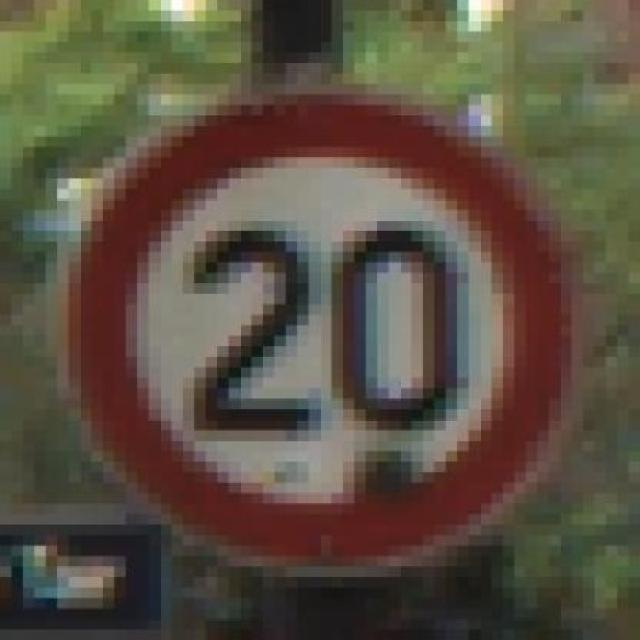forb_speed_over_20: (85, 104, 568, 561)
